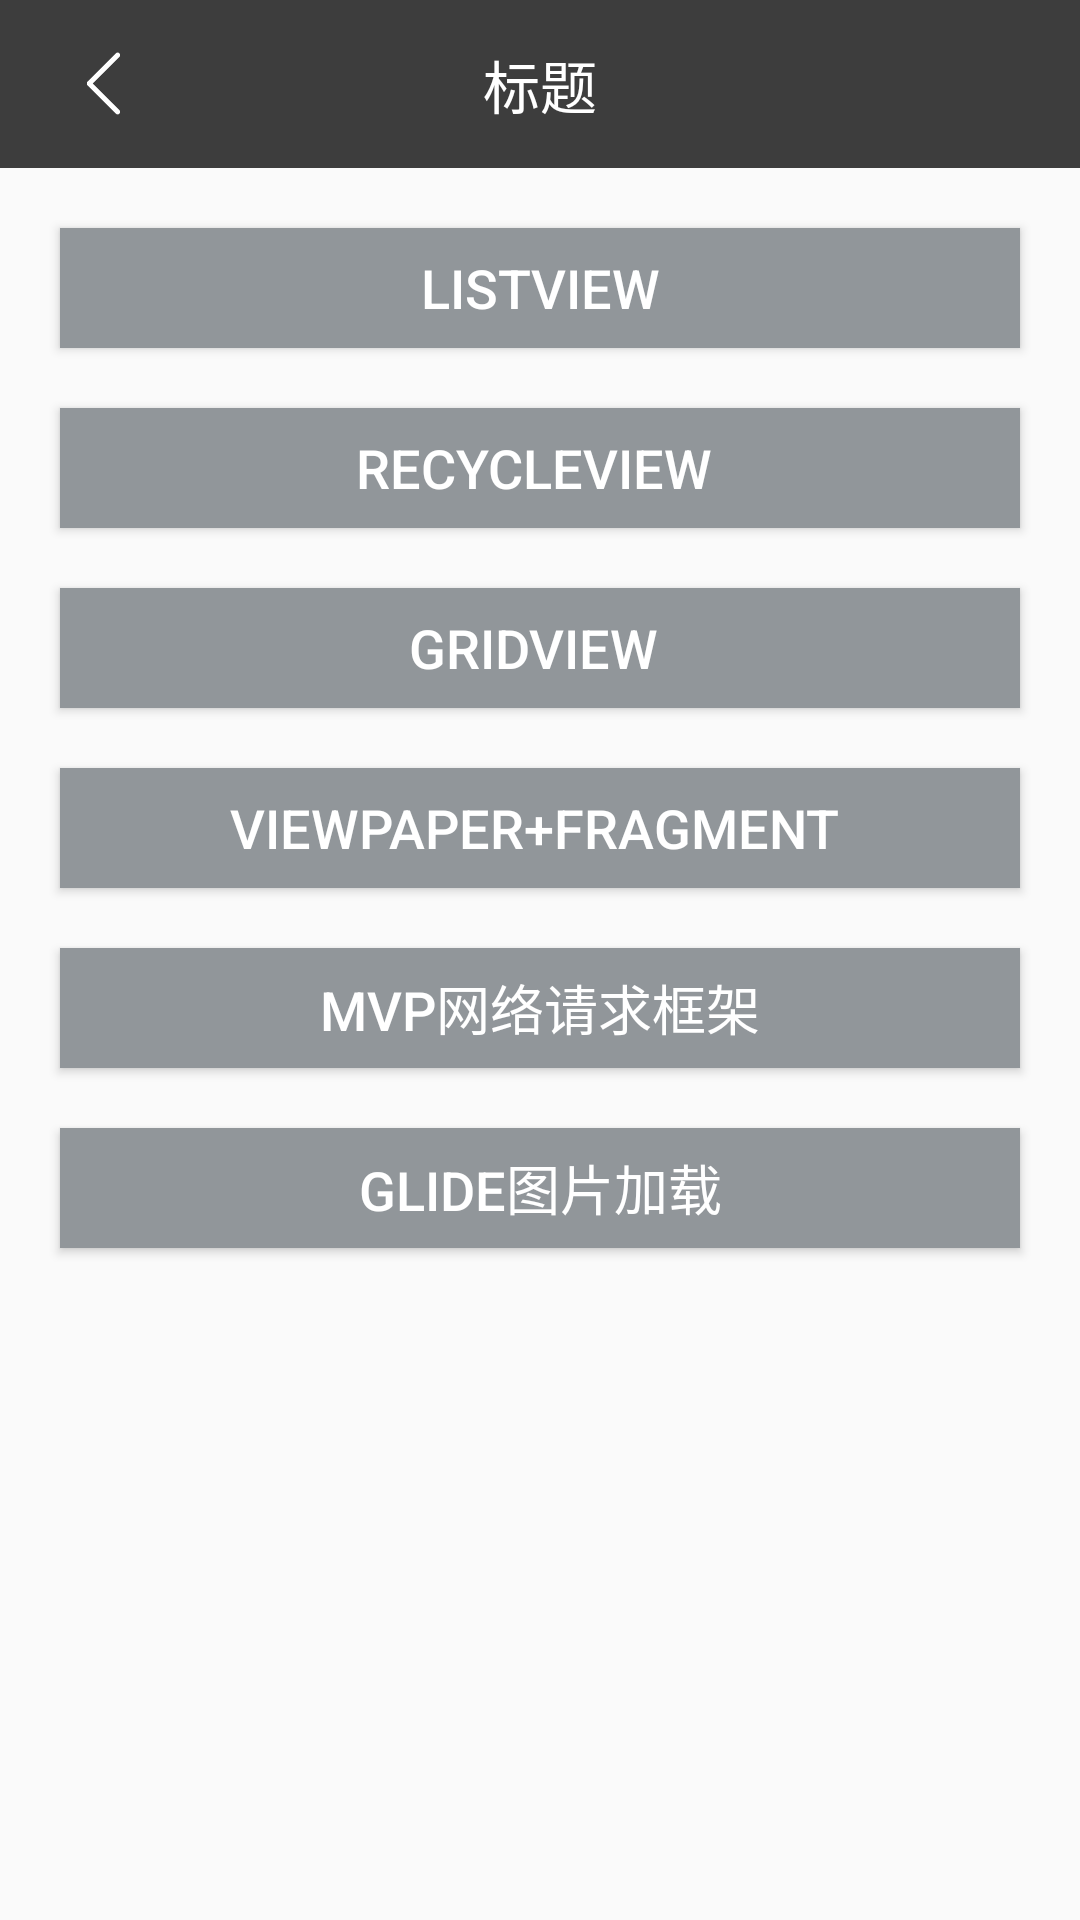

Where to tap for icons on this 1080w x 1920h app screen, as [x,y]:
back: [103,83]
